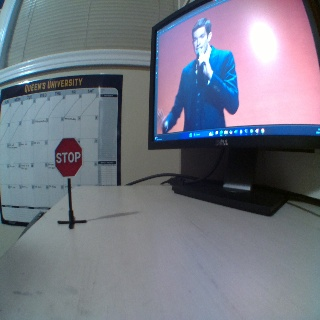sign_stop: (53, 139, 83, 176)
